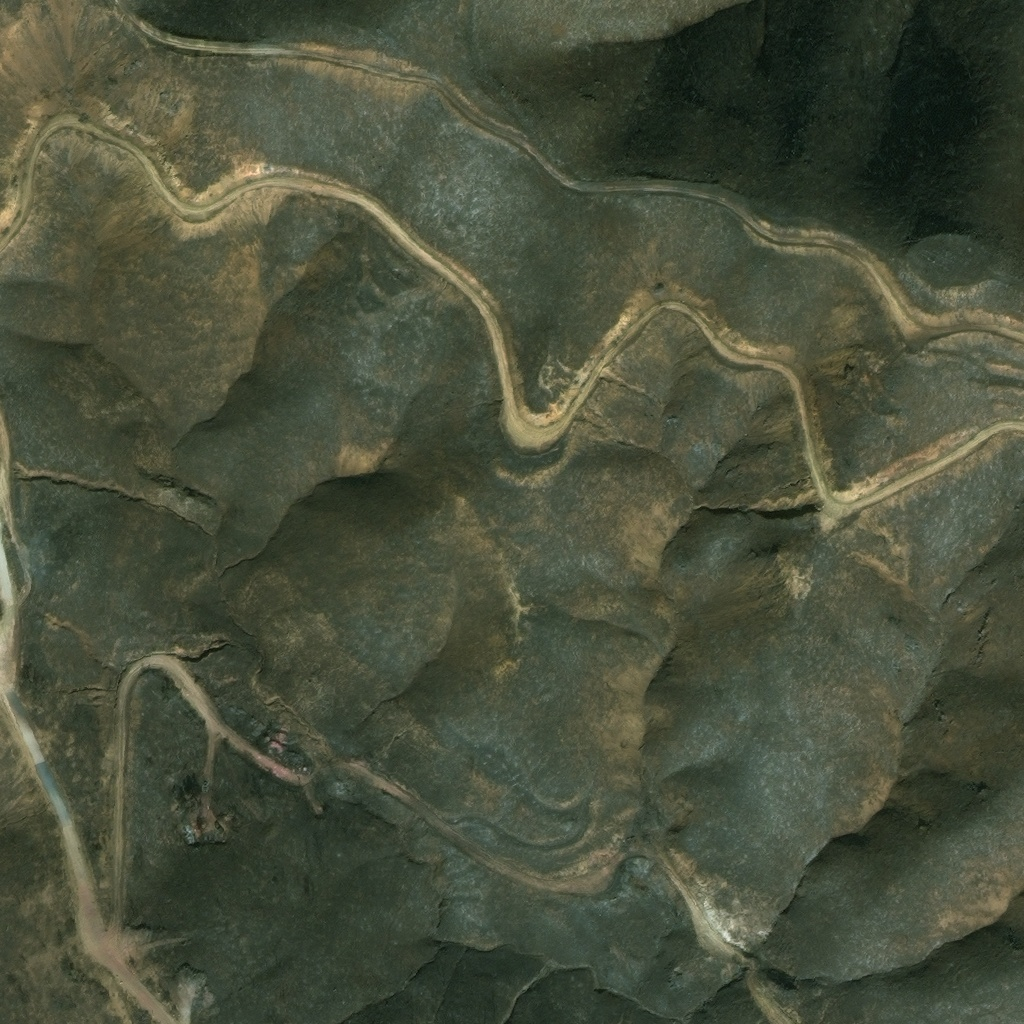3 destroyed: (182, 820, 198, 837)
